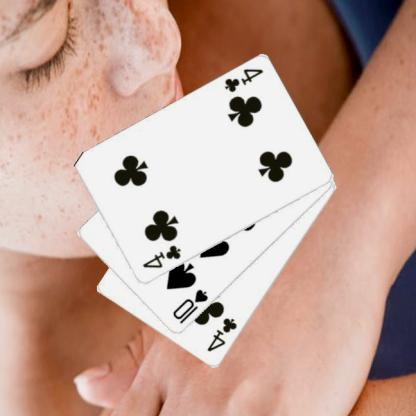10S: (169, 286, 210, 326)
4C: (204, 315, 239, 354), (222, 66, 265, 94), (140, 242, 182, 270)
